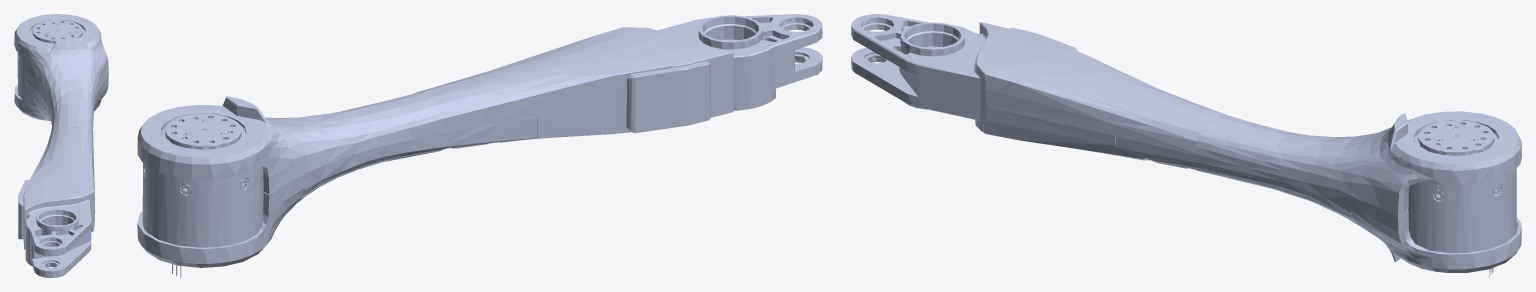
The model's file is SF_TRON1_knee_L_Link_visuals_knee_L_Link_mesh.obj.
3 views of the same model, side by side, from view 1: azimuth 30°, elevation 25°; view 2: azimuth 150°, elevation 25°; view 3: azimuth 270°, elevation 25° (orthographic). The views are drawn at different scales.
Bounding box in the file's own units: 0.2171 × 0.0789 × 0.3329.
